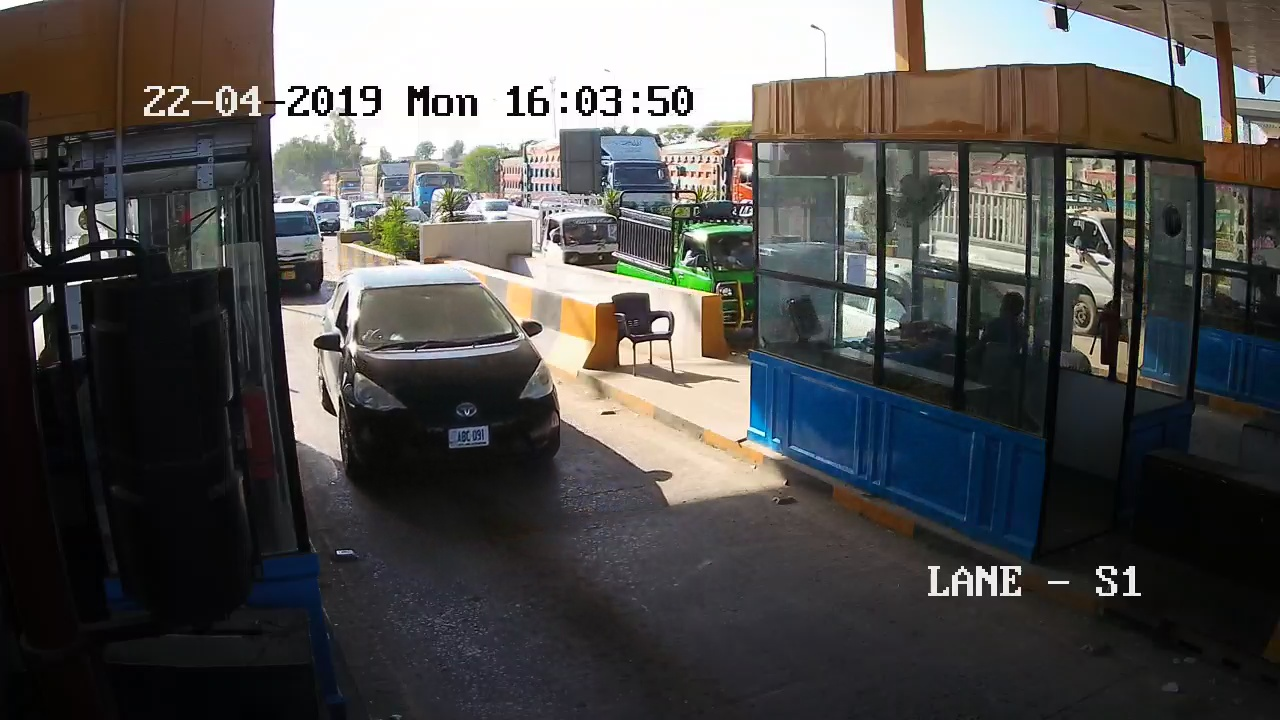Number Plate (Car): (446, 426, 490, 447)
